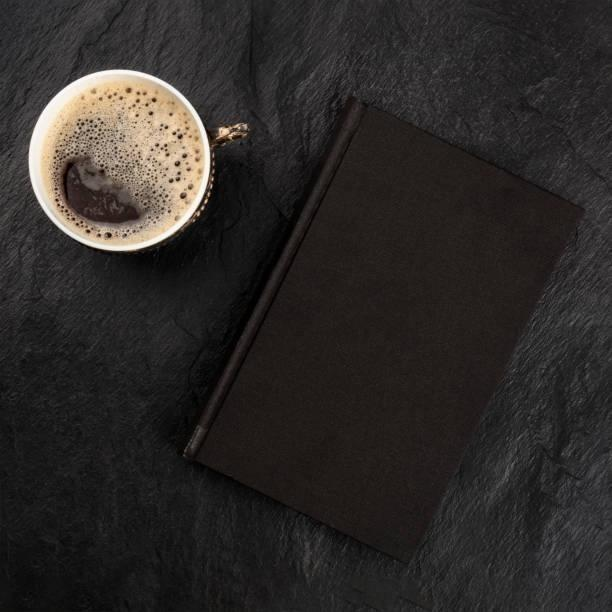cup-handle: (25, 67, 245, 259)
